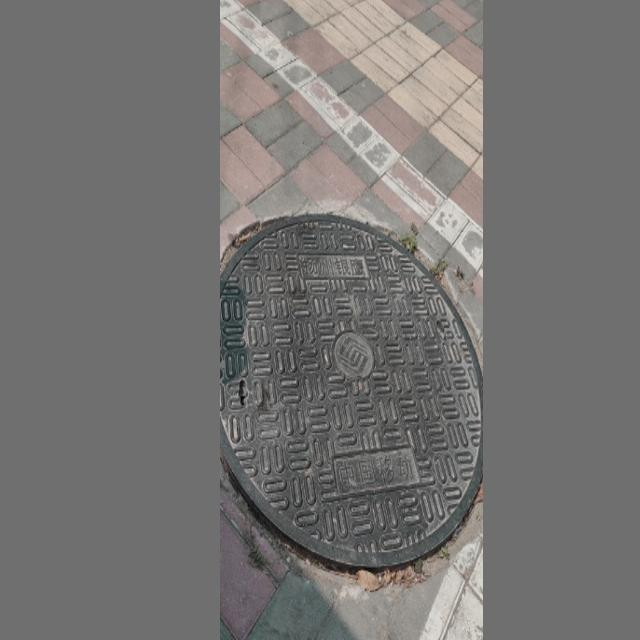good: (220, 213, 481, 572)
